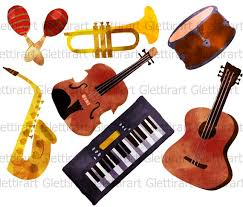Piano: (35, 94, 182, 207)
Saxophone: (4, 61, 68, 191)
